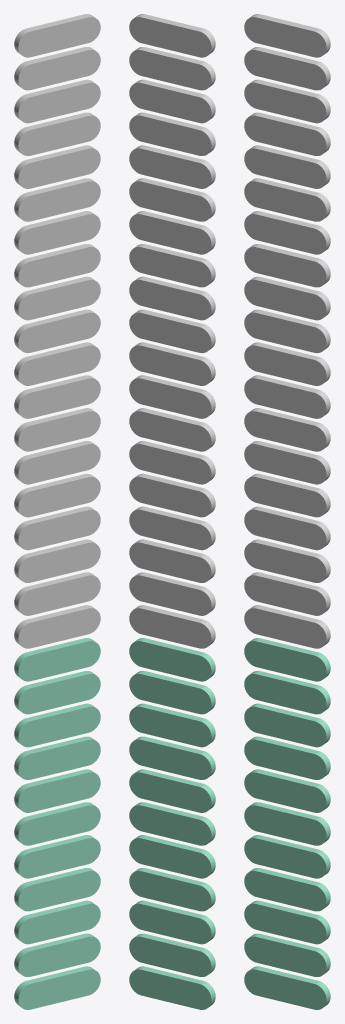
Rendered from bar.fbx.
3 renders of one model, left to right at view 1: azimuth 30°, elevation 25°; view 2: azimuth 150°, elevation 25°; view 3: azimuth 330°, elevation 25°, orthographic.
Parts seen in each view (by area): view 1: progress bar; view 2: progress bar; view 3: progress bar.
Part boxes in pixels (x1,y1,x2,y2): progress bar: (14,14,100,1009); progress bar: (129,14,215,1009); progress bar: (244,14,330,1009).
Size of the model in its own units: 226 by 2568 by 20.01.
